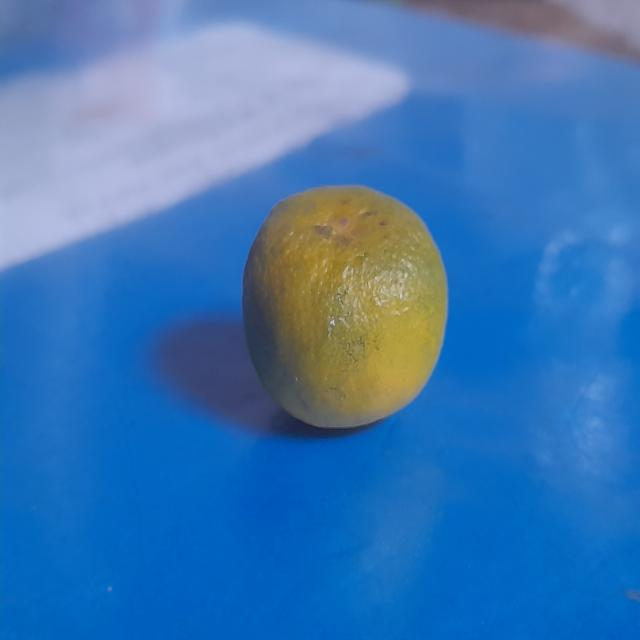greening: (232, 172, 456, 439)
